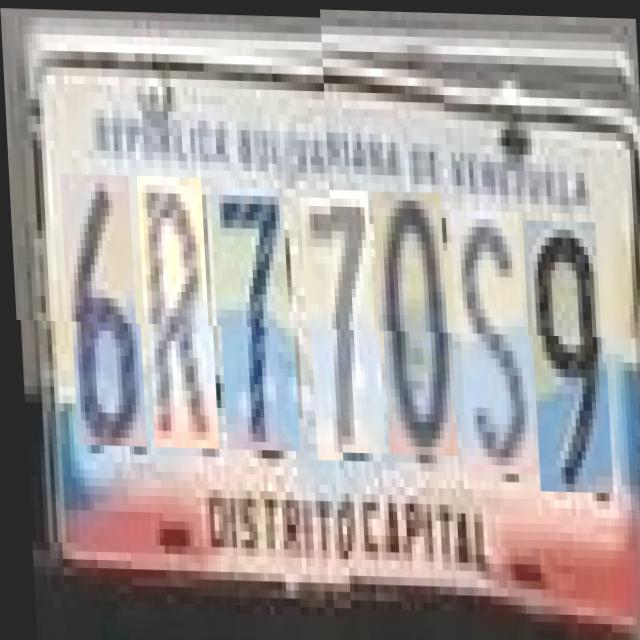6: (62, 173, 142, 446)
7: (212, 186, 295, 450), (302, 196, 381, 460)
9: (524, 225, 608, 498)
O: (374, 198, 454, 462)
R: (140, 175, 214, 448)
S: (452, 216, 531, 480)
